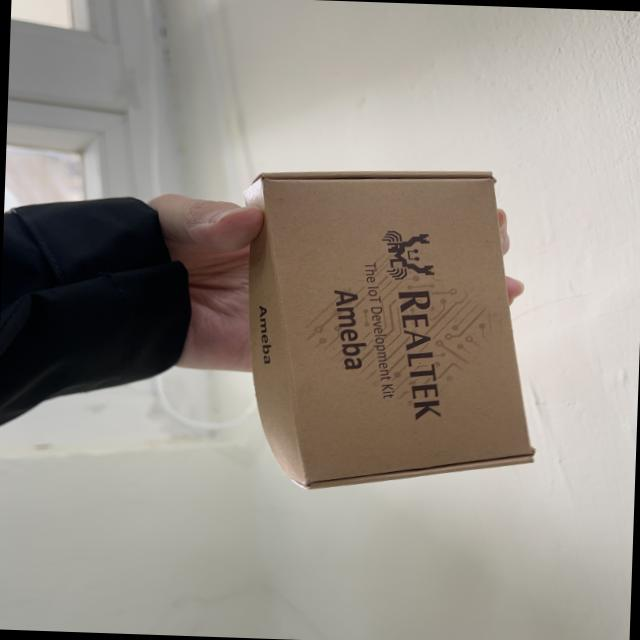box: (196, 150, 574, 523)
